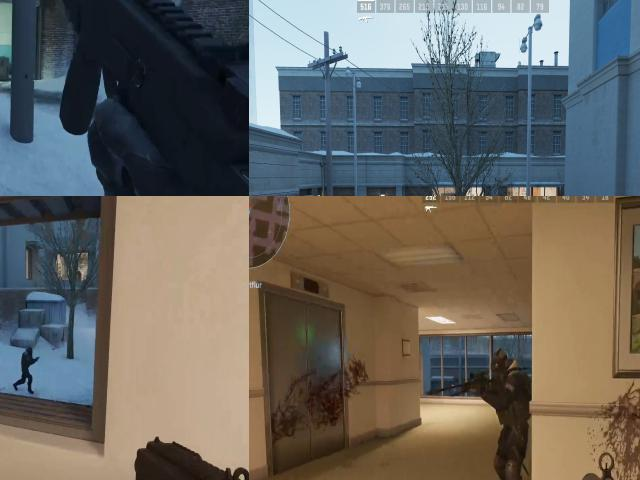CT: (486, 357, 534, 446), (19, 345, 38, 380)
CT-Head: (487, 344, 520, 392), (23, 346, 34, 360)
